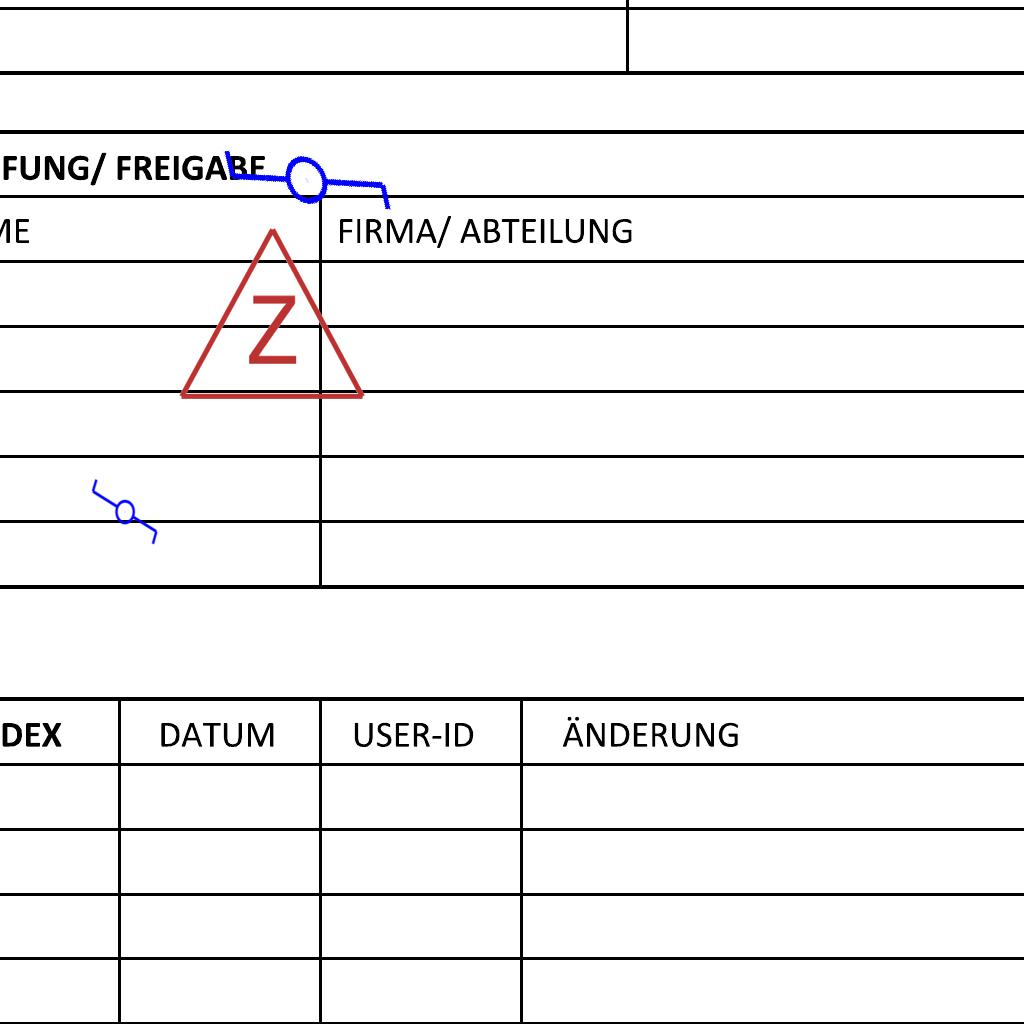Wechselschalter: (203, 68, 406, 276), (88, 477, 160, 555)
Zimmersignalleuchte: (172, 214, 368, 414)
